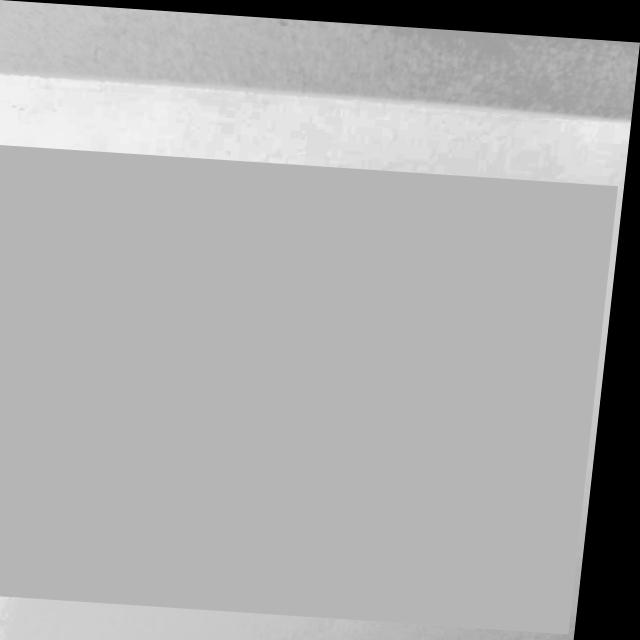qr_code: (0, 145, 621, 625)
